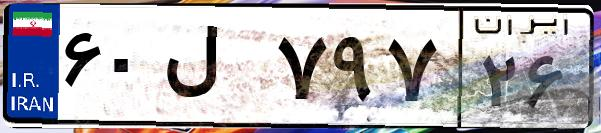0: (110, 28, 158, 98)
2: (475, 38, 525, 113)
6: (57, 26, 110, 100), (525, 38, 570, 115)
7: (270, 28, 330, 110), (385, 28, 445, 110)
9: (330, 28, 385, 110)
ل: (158, 20, 270, 120)
